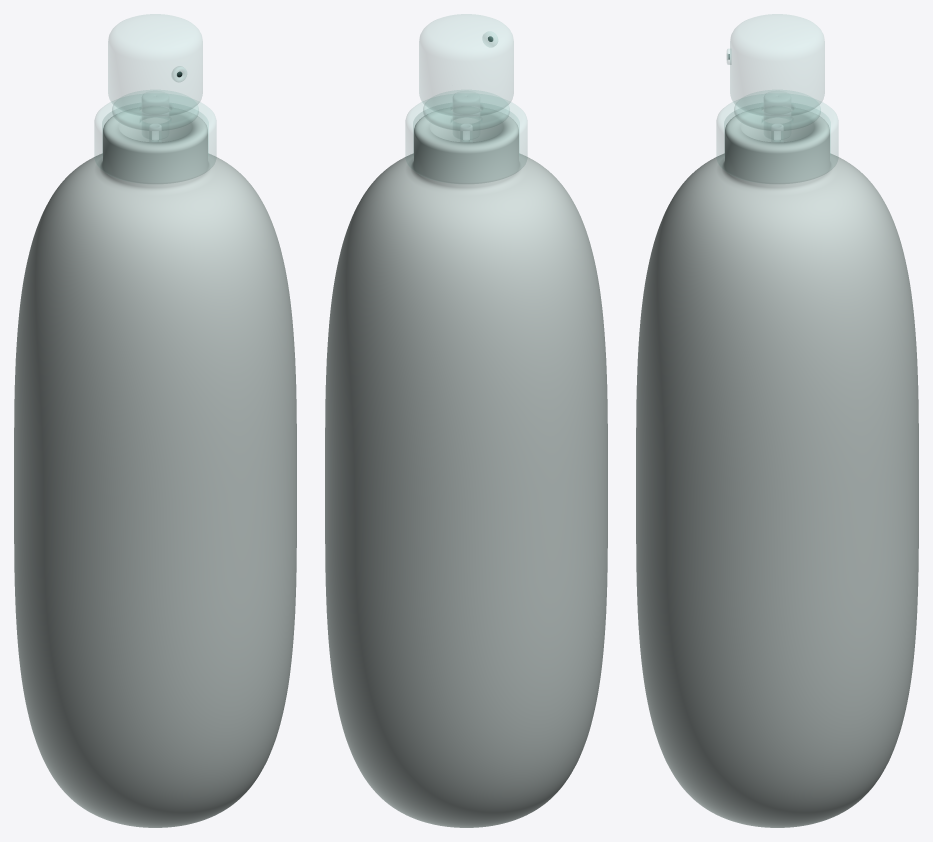
The model's file is dewlab-mist.glb.
3 renders of one model, left to right at view 1: azimuth 30°, elevation 25°; view 2: azimuth 150°, elevation 25°; view 3: azimuth 270°, elevation 25°, orthographic.
Visible parts, largest first — view 1: Mist.Bottle, Mist.Actuator, Mist.Ferrule, Mist.Collar, Mist.Stem; view 2: Mist.Bottle, Mist.Actuator, Mist.Ferrule, Mist.Collar, Mist.Stem; view 3: Mist.Bottle, Mist.Actuator, Mist.Ferrule, Mist.Collar, Mist.Stem.
Part boxes in pixels (left/top/right/bottom): Mist.Bottle: left=14, top=106, right=296, bottom=827; Mist.Actuator: left=108, top=14, right=202, bottom=116; Mist.Ferrule: left=94, top=99, right=216, bottom=183; Mist.Collar: left=112, top=90, right=198, bottom=130; Mist.Stem: left=142, top=91, right=168, bottom=139; Mist.Bottle: left=325, top=106, right=607, bottom=827; Mist.Actuator: left=419, top=14, right=513, bottom=116; Mist.Ferrule: left=405, top=99, right=527, bottom=183; Mist.Collar: left=423, top=90, right=509, bottom=130; Mist.Stem: left=453, top=91, right=479, bottom=139; Mist.Bottle: left=636, top=106, right=918, bottom=827; Mist.Actuator: left=730, top=14, right=824, bottom=116; Mist.Ferrule: left=716, top=99, right=838, bottom=183; Mist.Collar: left=734, top=90, right=820, bottom=130; Mist.Stem: left=764, top=91, right=790, bottom=139.
Size of the model in its own units: 0.043 by 0.131 by 0.043.
